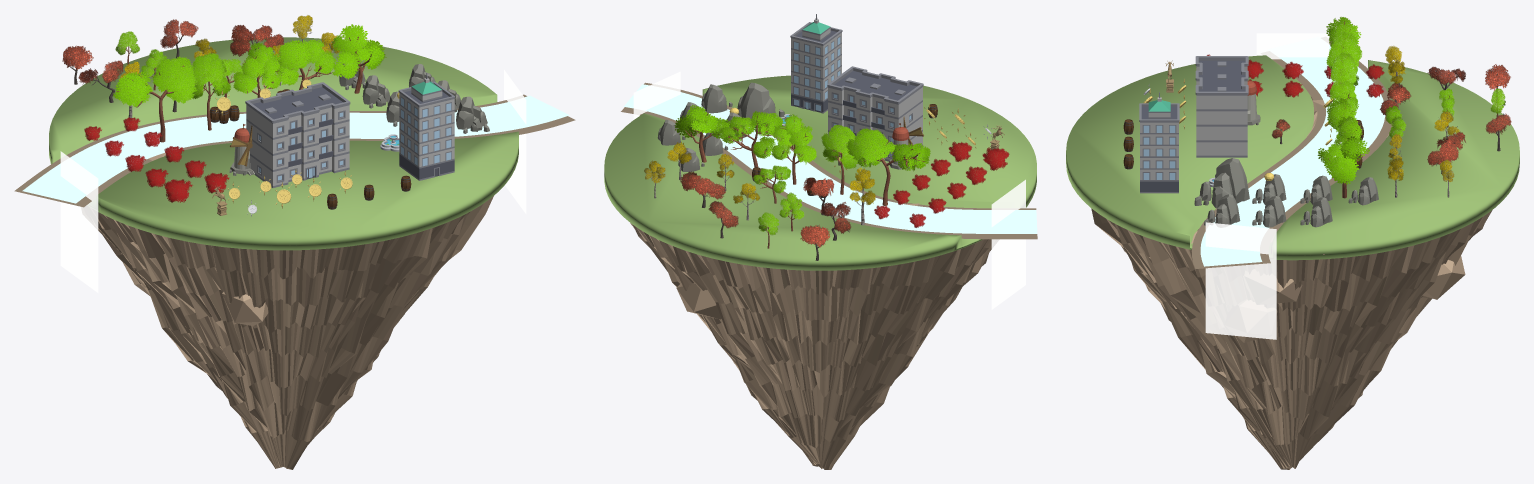
The model's file is island.glb.
3 views of the same model, side by side, from view 1: azimuth 30°, elevation 25°; view 2: azimuth 150°, elevation 25°; view 3: azimuth 270°, elevation 25° (orthographic). The views are drawn at different scales.
Visible parts, largest first — view 1: Base, IslandTop, large_buildingA.001, RiverWater, skyscraperE.001, Plane, NormalTree_4.001, RiverMud, NormalTree_5.001, NormalTree_3.001, NormalTree_2.001, Plane.001 (+9 smaller); view 2: Base, IslandTop, RiverWater, large_buildingA.001, skyscraperE.001, Plane, NormalTree_4.001, RiverMud, NormalTree_3.001, NormalTree_2.001, NormalTree_5.001, NormalTree_1.001 (+15 smaller); view 3: IslandTop, Base, RiverWater, Plane.001, large_buildingA.001, skyscraperE.001, RiverMud, Plane, Resource_Rock_1.001, NormalTree_5.001, NormalTree_4.001, NormalTree_3.001 (+15 smaller).
Boxes of the visible parts, x1,y1,x2,y2 form: Base: (83, 196, 493, 469); IslandTop: (49, 37, 518, 250); large_buildingA.001: (245, 82, 350, 187); RiverWater: (22, 95, 569, 203); skyscraperE.001: (398, 72, 454, 180); Plane: (60, 151, 98, 292); NormalTree_4.001: (113, 56, 196, 142); RiverMud: (14, 94, 575, 207); NormalTree_5.001: (332, 24, 386, 93); NormalTree_3.001: (275, 39, 336, 89); NormalTree_2.001: (233, 42, 281, 97); Plane.001: (504, 70, 526, 213); Base: (630, 161, 991, 469); IslandTop: (604, 75, 1036, 270); RiverWater: (623, 84, 1037, 233); large_buildingA.001: (827, 66, 923, 161); skyscraperE.001: (790, 14, 842, 113); Plane: (991, 179, 1025, 309); NormalTree_4.001: (846, 128, 930, 205); RiverMud: (621, 82, 1037, 239); NormalTree_3.001: (719, 111, 783, 167); NormalTree_2.001: (771, 114, 816, 184); NormalTree_5.001: (674, 104, 731, 162); NormalTree_1.001: (821, 124, 859, 194); IslandTop: (1066, 55, 1519, 260); Base: (1091, 96, 1492, 469); RiverWater: (1200, 44, 1385, 266); Plane.001: (1205, 222, 1276, 339); large_buildingA.001: (1195, 56, 1248, 157); skyscraperE.001: (1139, 92, 1179, 193); RiverMud: (1191, 40, 1392, 268); Plane: (1256, 33, 1329, 59); Resource_Rock_1.001: (1194, 158, 1249, 208); NormalTree_5.001: (1317, 136, 1370, 198); NormalTree_4.001: (1326, 17, 1362, 73); NormalTree_3.001: (1326, 98, 1362, 145).
Size of the model in its own units: 53.62 by 44.32 by 44.2.
Materials: 40 (8 with a texture image).
